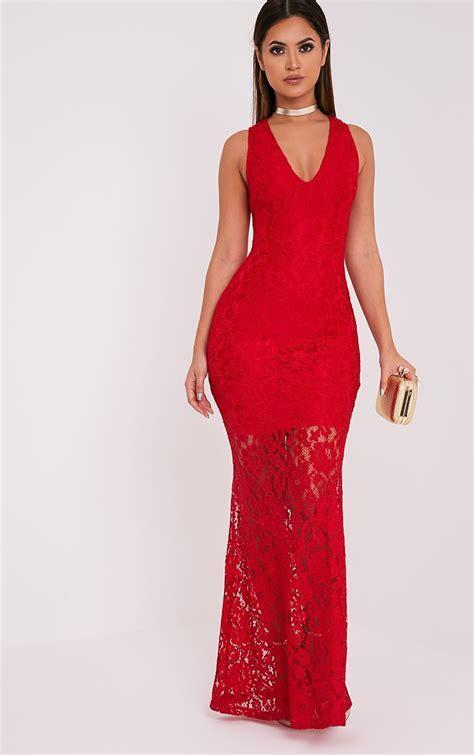dress: (204, 120, 362, 728)
